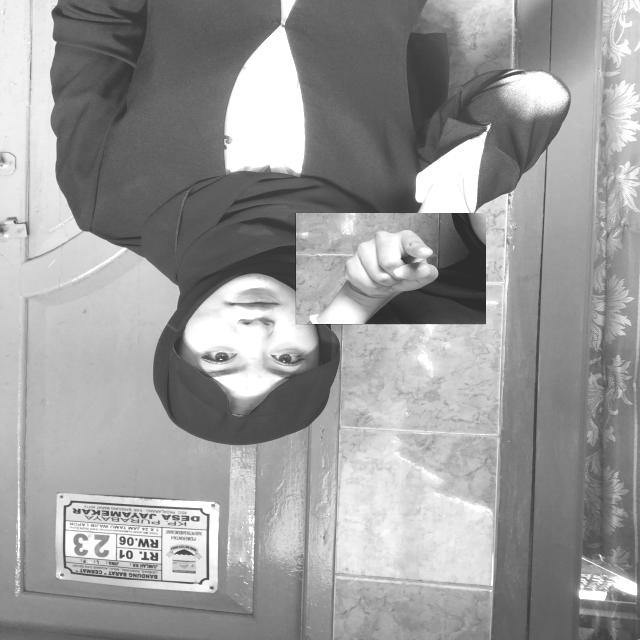kamu: (295, 213, 486, 325)
